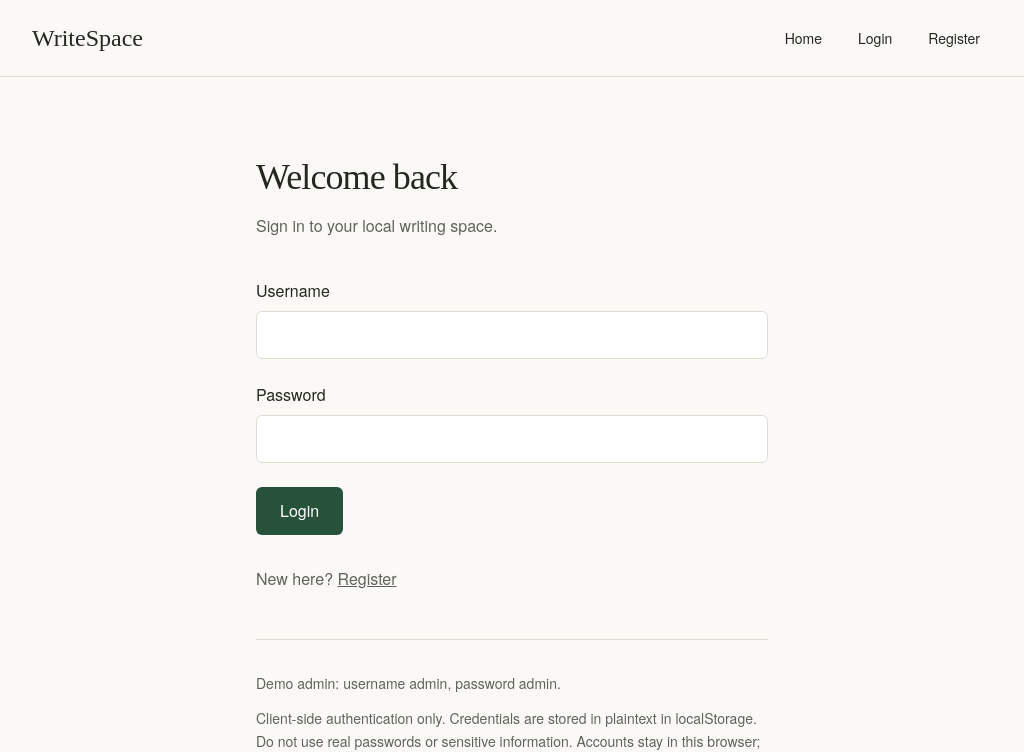
Test case: identity forms and App › shows exact invalid credentials and retains inputs without changing route or shell
The image size is (1024, 752).
Click the button "Login" at [300, 511], box [256,487,343,535]
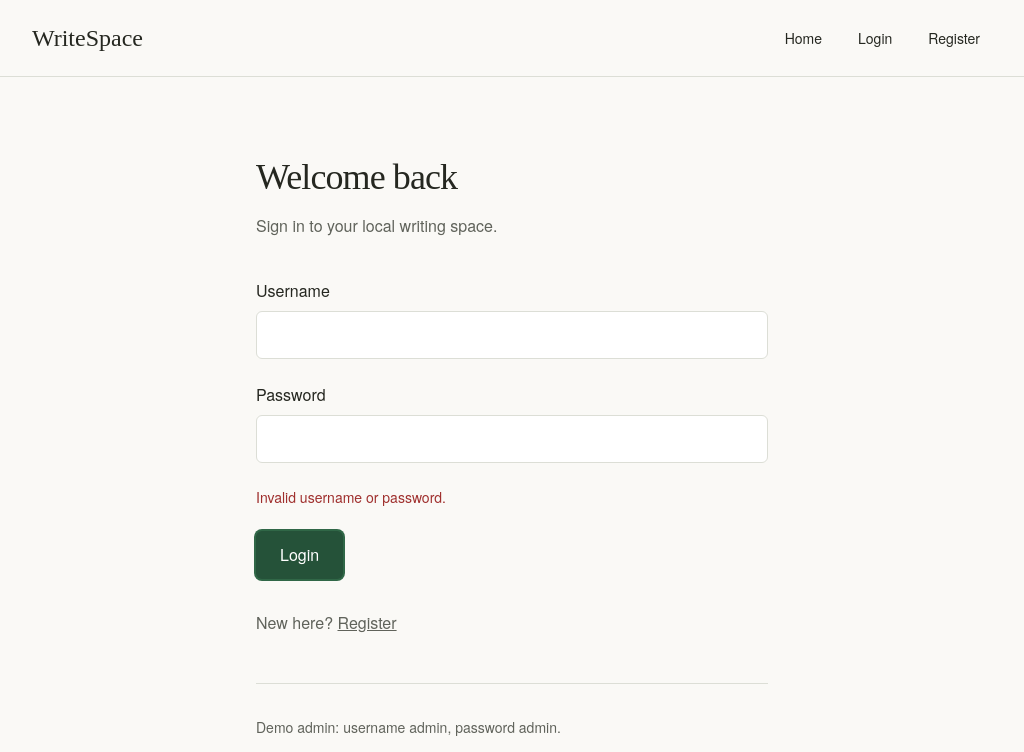
Expected: the field labelled "Username" is empty, [256,311,768,359]
Expected: the message reads "Invalid username or password.", [256,487,446,507]
